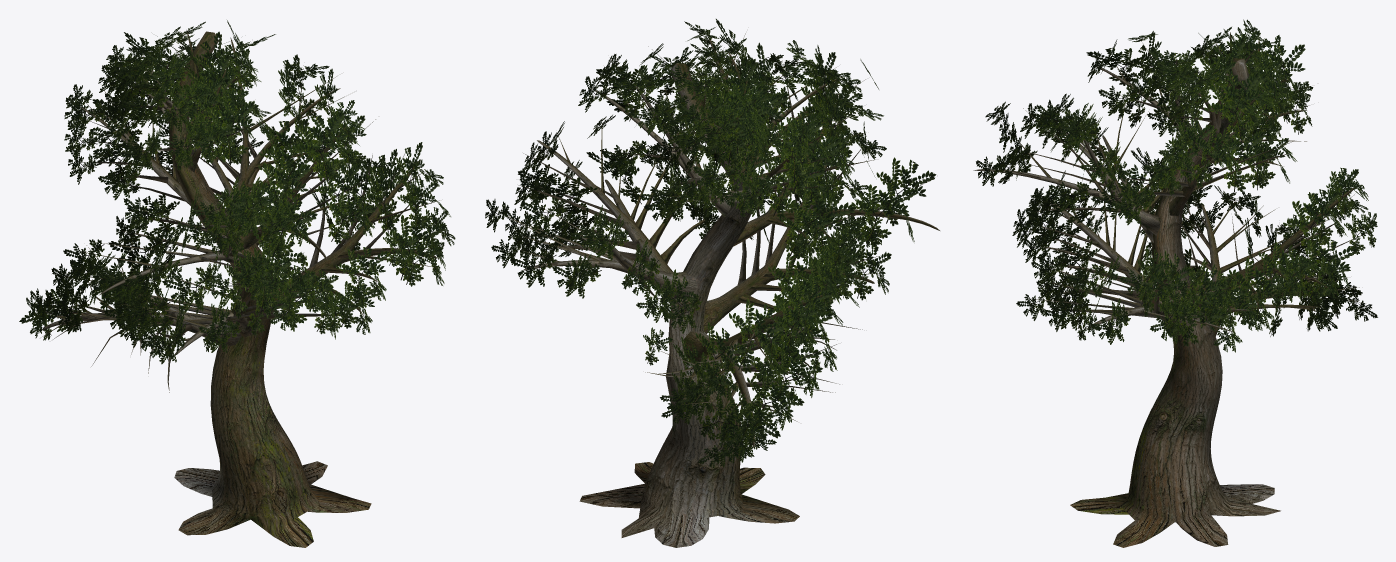
Rendered from tree.glb.
3 renders of one model, left to right at view 1: azimuth 30°, elevation 25°; view 2: azimuth 150°, elevation 25°; view 3: azimuth 270°, elevation 25°, orthographic. The views are drawn at different scales.
Parts seen in each view (by area): view 1: Object_4, Object_5; view 2: Object_4, Object_5; view 3: Object_4, Object_5.
Boxes of the visible parts, x1,y1,x2,y2 form: Object_4: (19,20,455,364); Object_5: (32,30,442,547); Object_4: (485,19,936,467); Object_5: (495,33,939,547); Object_4: (976,19,1377,352); Object_5: (973,32,1366,547).
Bounding box in the file's own units: 4.13 × 4.86 × 3.97.
2 materials, 2 textured.
